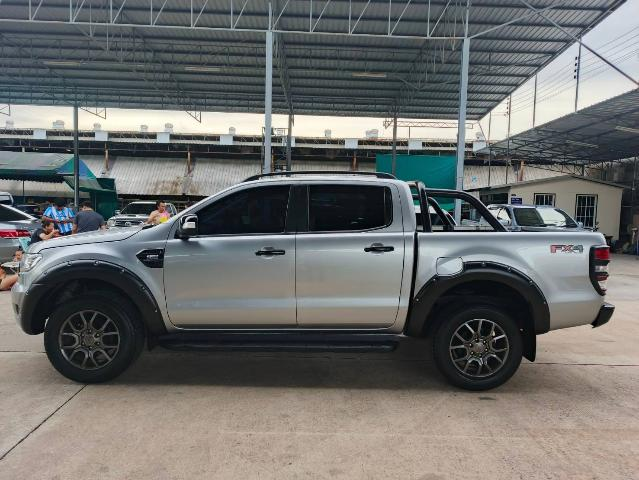pickup-truck: (7, 166, 628, 414)
